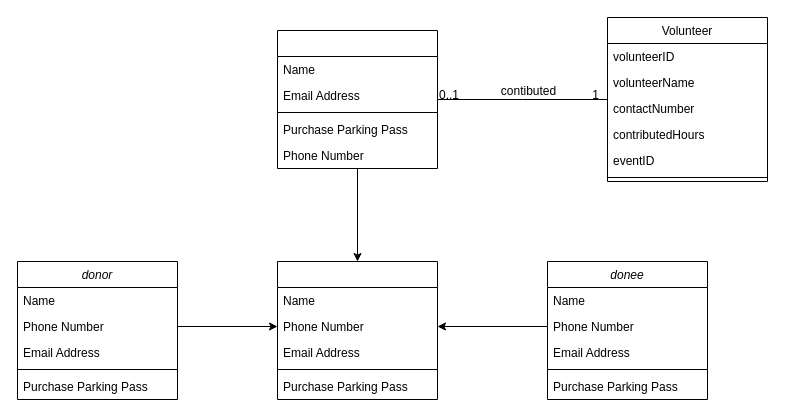
This 785x420 diagram has some shape labels left out. Each missing label, with the box of its shape:
donation: (276, 260, 438, 400)
Event: (276, 30, 438, 168)
